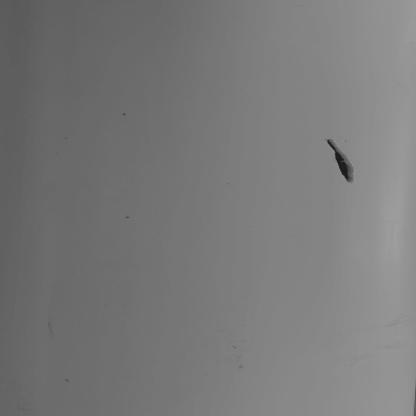kongdong: (323, 139, 357, 186)
